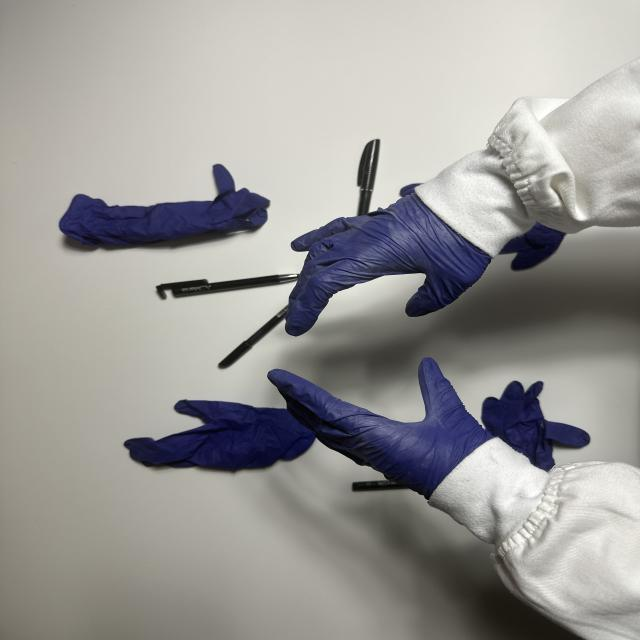gloves_contaminated: (268, 359, 489, 498), (286, 194, 492, 336)
